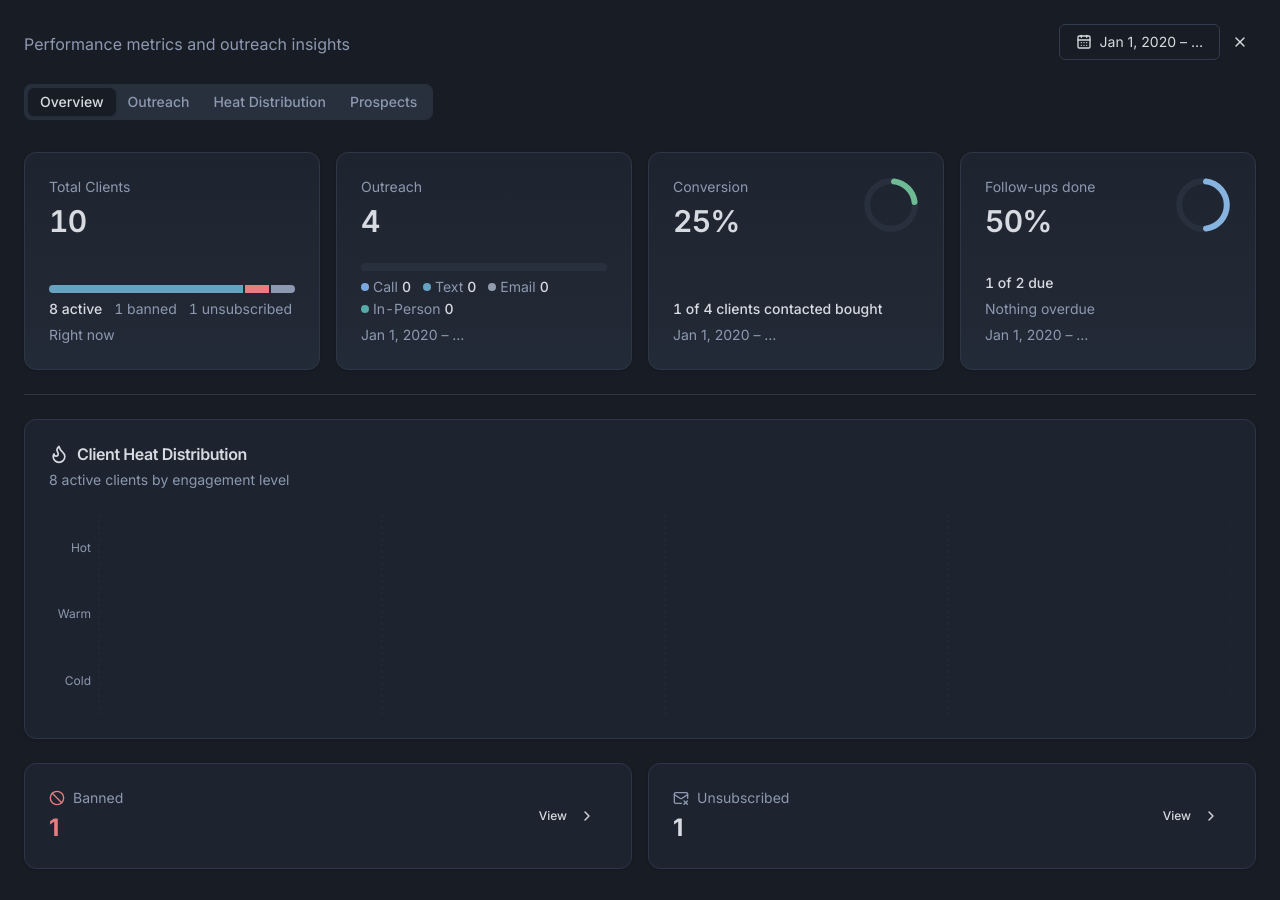
AnalyticsContent outreach breakdowns › shows the truthful empty state when the range has no logs
The width and height of the screenshot is (1280, 900).
Click the tab "Outreach". click: point(158, 102)
box: x1=116 y1=88 x2=201 y2=116
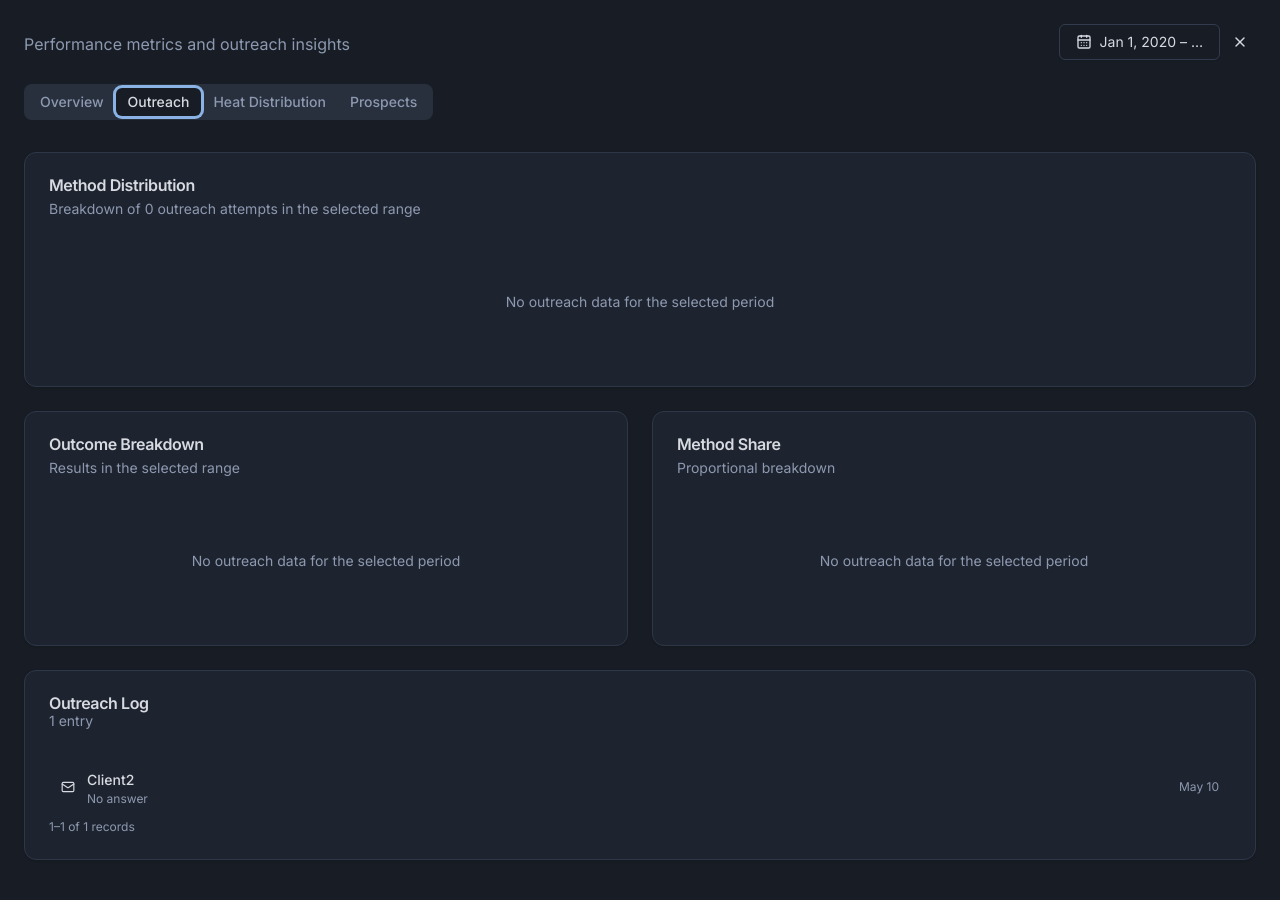
Result: the text "No outreach data for the selected period" is shown 3 times at x1=506 y1=291 x2=774 y2=314; x1=192 y1=550 x2=460 y2=573; x1=820 y1=550 x2=1088 y2=573
